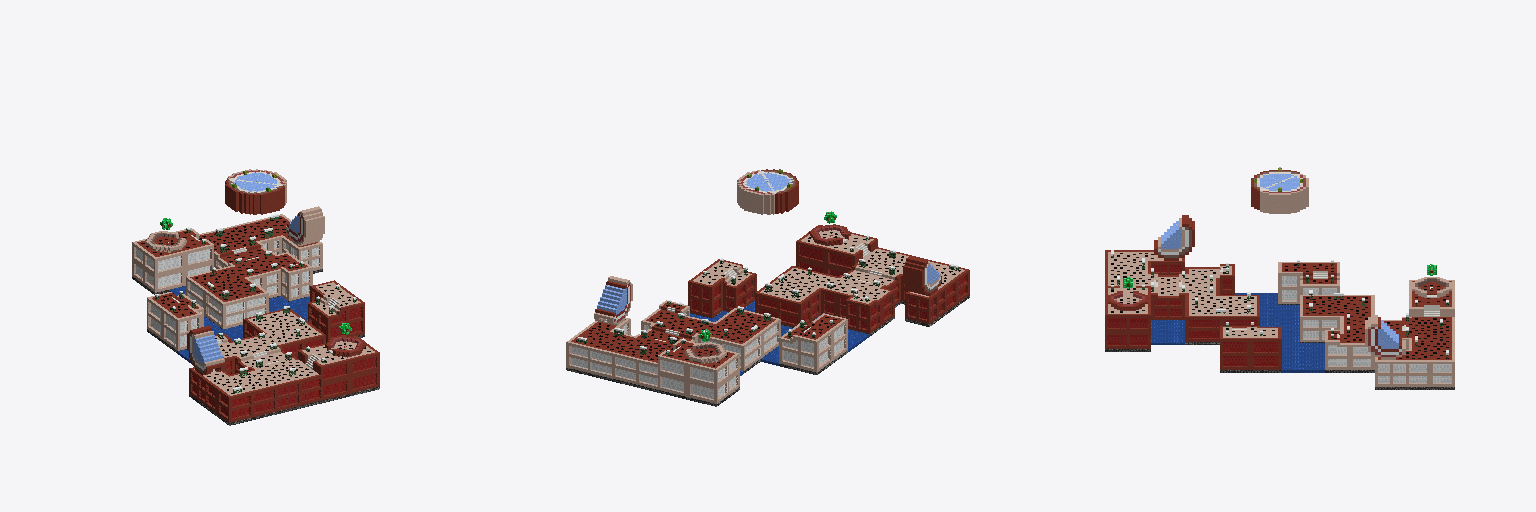
3 views of the same model, side by side, from view 1: azimuth 30°, elevation 25°; view 2: azimuth 150°, elevation 25°; view 3: azimuth 270°, elevation 25° (orthographic).
Bounding box in the file's own units: 85 × 55.52 × 113.
Materials: 29 (27 with a texture image).